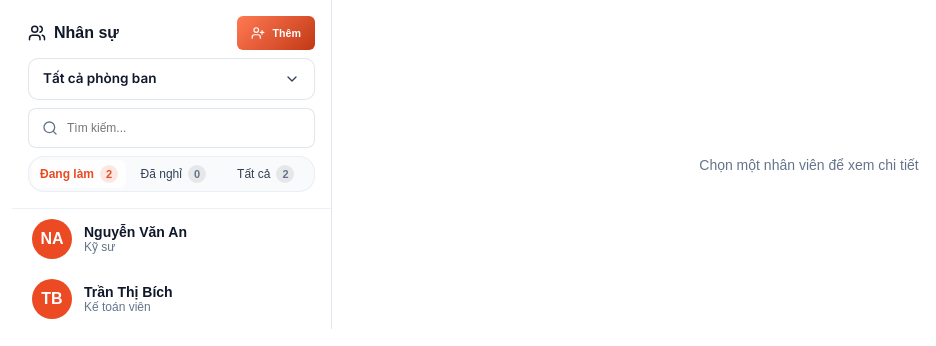
EmployeeDirectory › supports accent-insensitive search matching unaccented input against accented fields
expect the text "Nguyễn Văn An" is shown: met, box [84,224,187,240]
expect the text "Trần Thị Bích" is shown: met, box [84,284,173,300]
Search with unaccented "nguyen"
Type "nguyen" into the field with placeholder "Tìm kiếm...".
click(172, 128); type("nguyen")  # box [28,108,315,148]
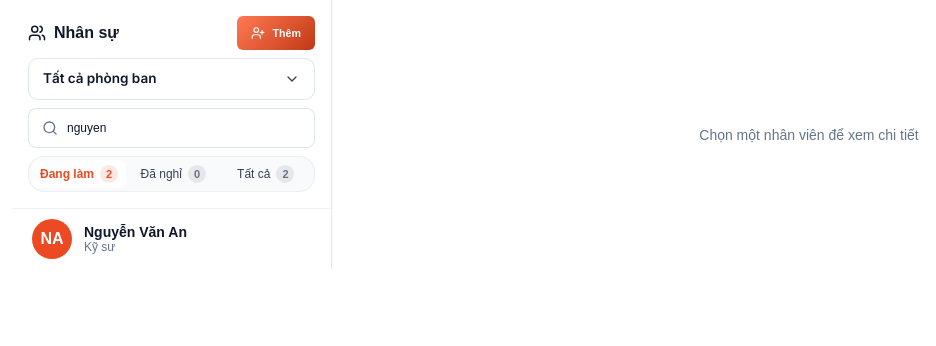
expect the text "Nguyễn Văn An" is shown: met, box [84,224,187,240]
expect the button "Trần Thị Bích" is gone: met
Search with unaccented "ky thuat"
Replace the text in the field with placeholder "Tìm kiếm..." with "ky thuat" at [172, 128], box [28,108,315,148]
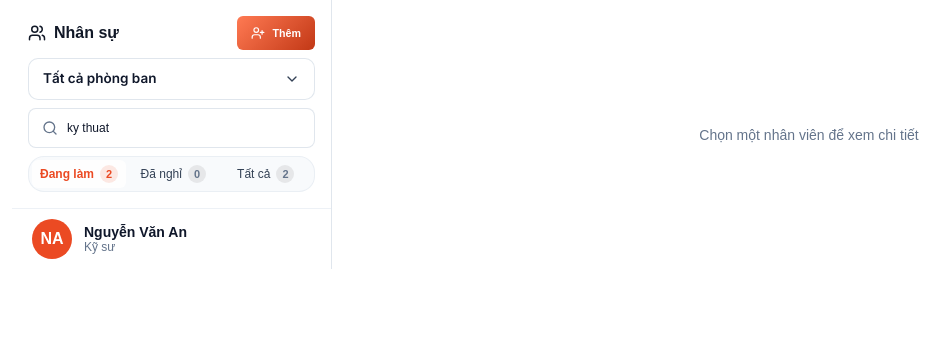
expect the text "Nguyễn Văn An" is shown: met, box [84,224,187,240]
expect the button "Trần Thị Bích" is not shown: met
Search with unaccented "bich"
Replace the text in the field with placeholder "Tìm kiếm..." with "bich" at [172, 128], box [28,108,315,148]
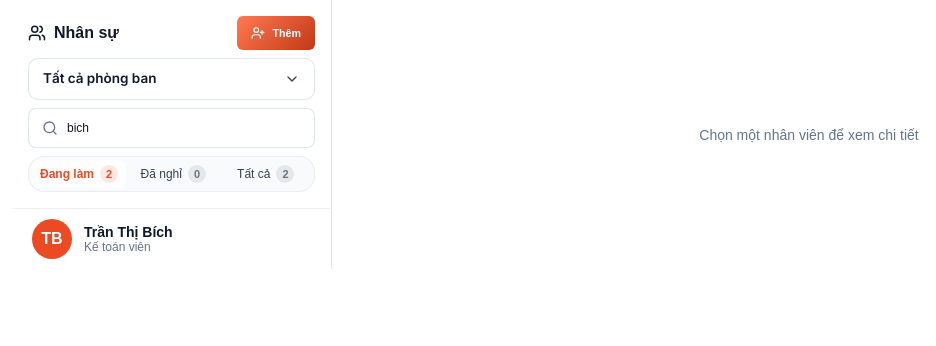
expect the button "Nguyễn Văn An" is gone: met
expect the text "Trần Thị Bích" is shown: met, box [84,224,173,240]
